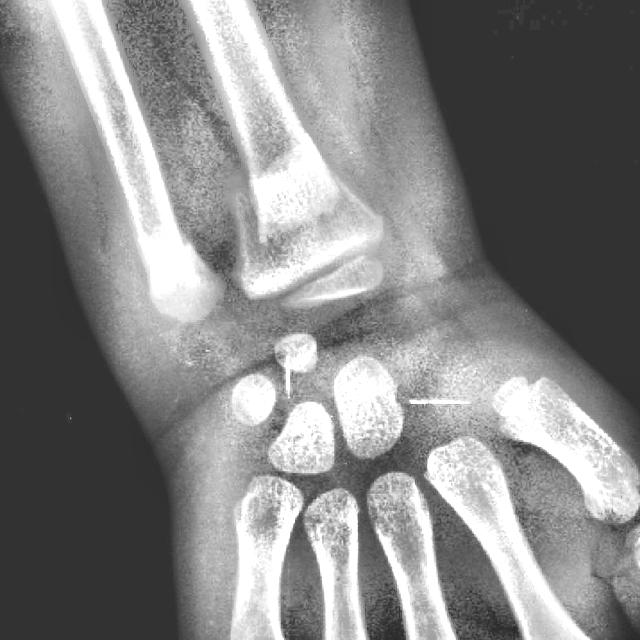fracture: (235, 132, 348, 242), (137, 232, 192, 292)
